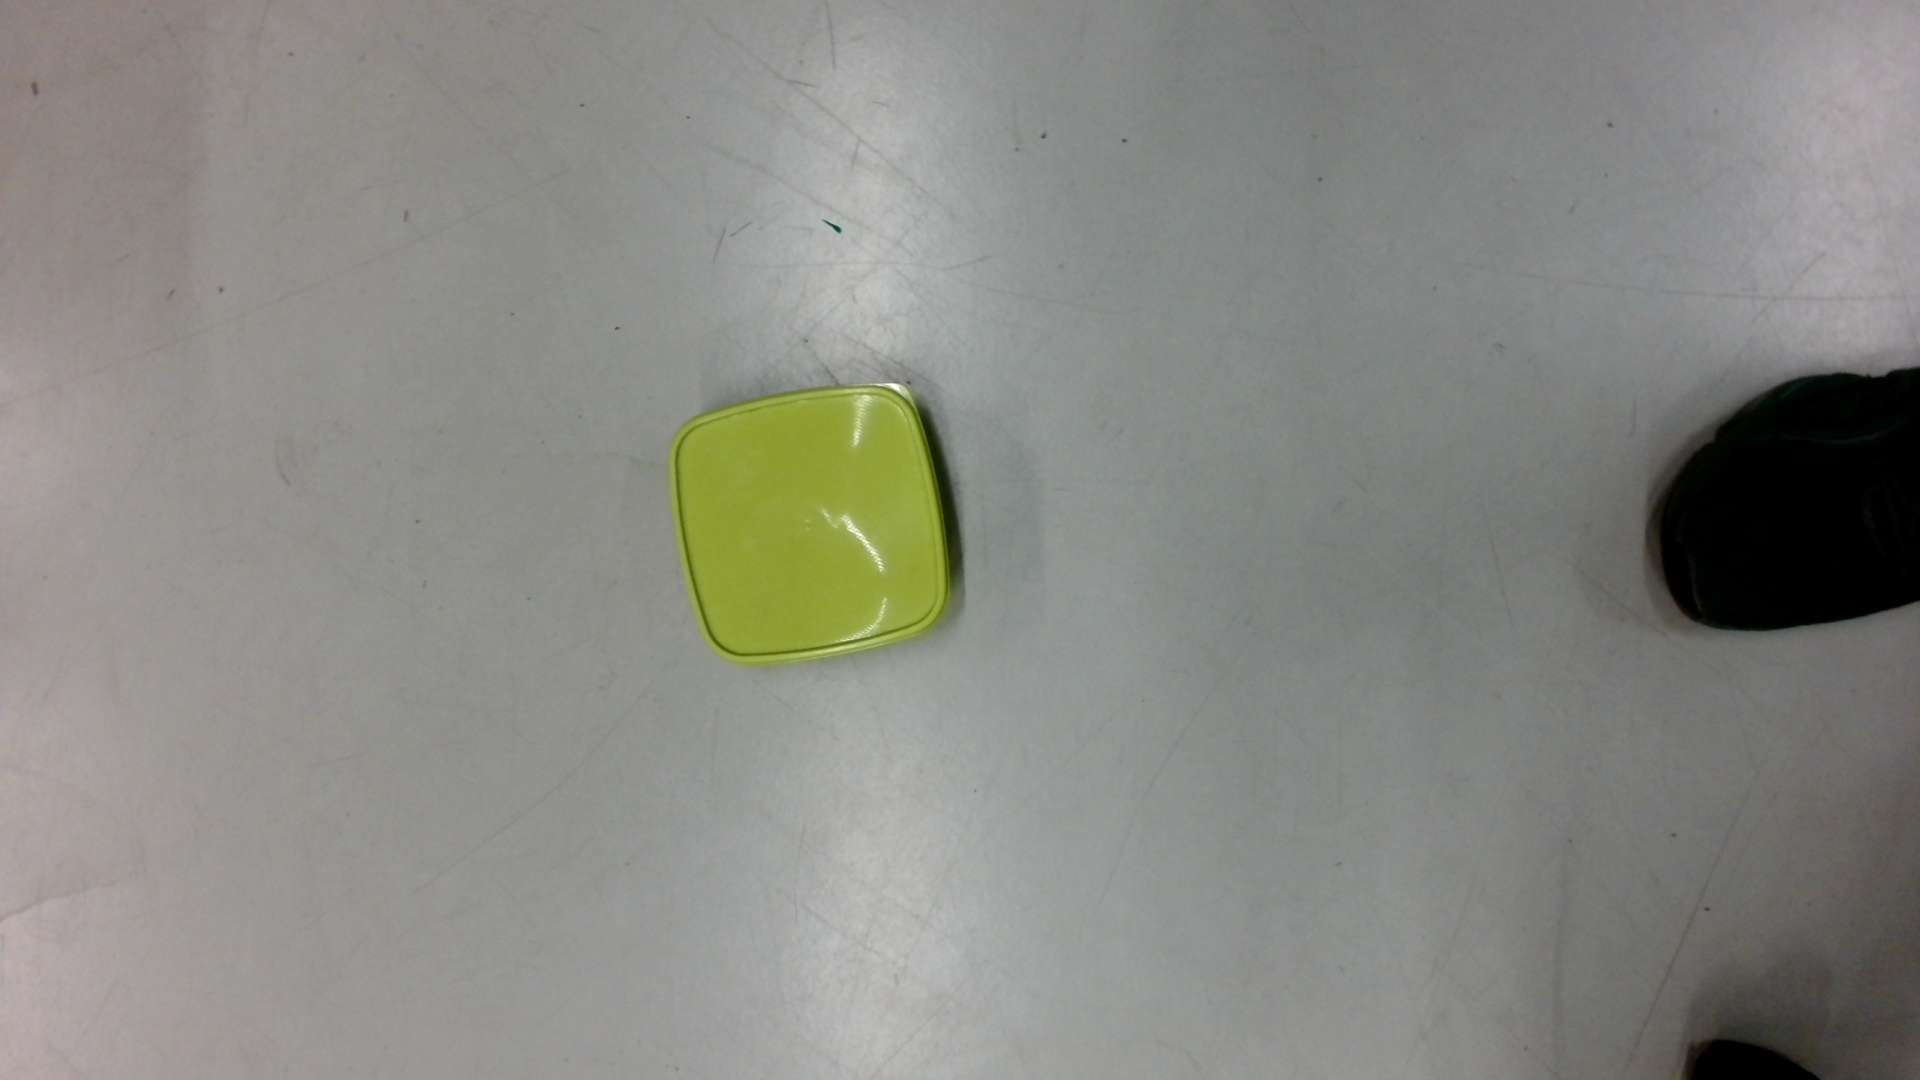Box: (665, 375, 957, 675)
